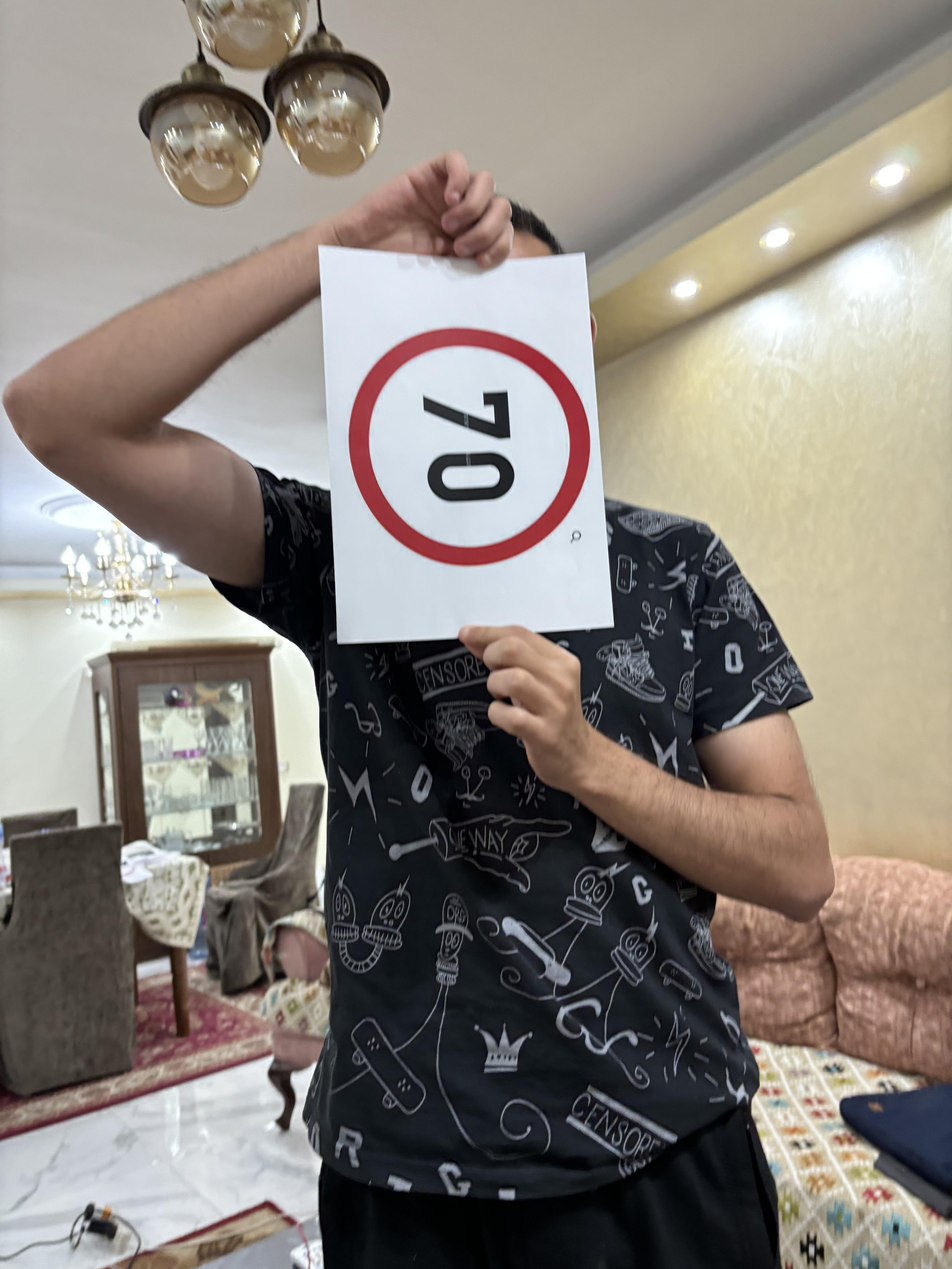70-Speed: (343, 318, 598, 570)
